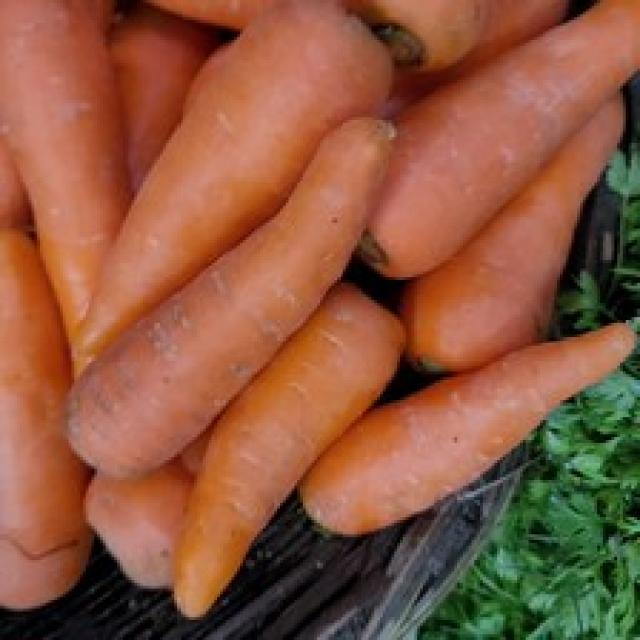Fresh_Carrot: (67, 1, 400, 354), (68, 106, 382, 476), (302, 314, 640, 539), (363, 0, 640, 269), (174, 287, 397, 616)
